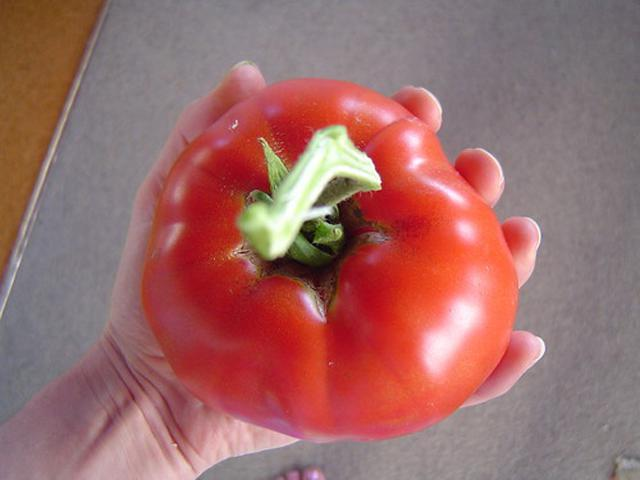tomato: (142, 77, 517, 440)
